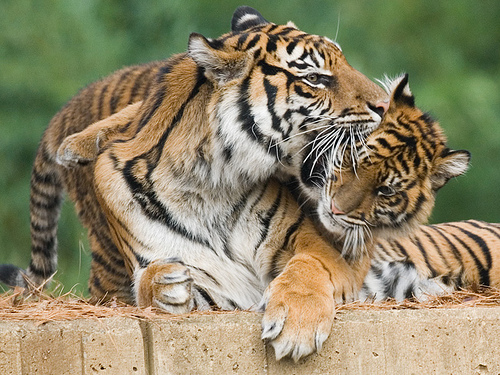Tigre: (69, 48, 334, 293)
